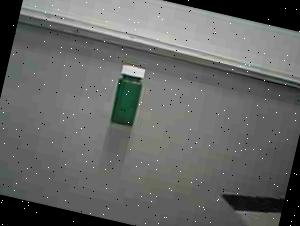Bottle C: (99, 56, 152, 133)
